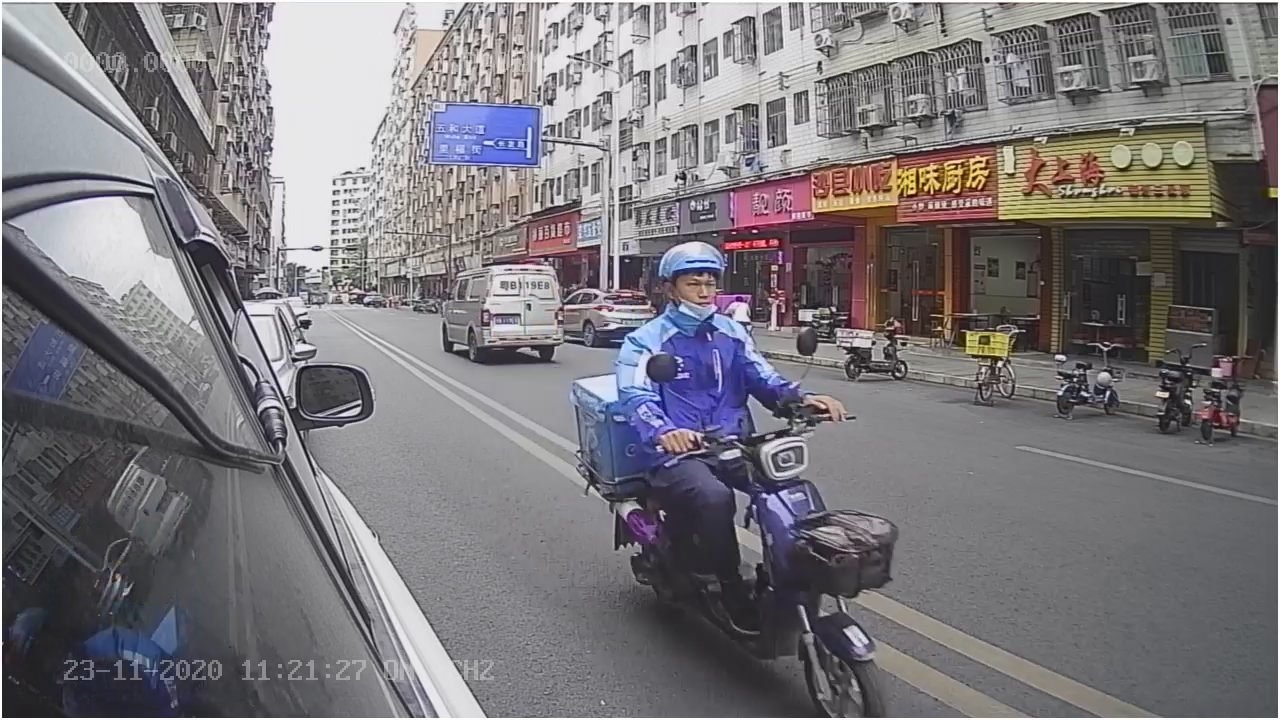person: (617, 242, 854, 425)
